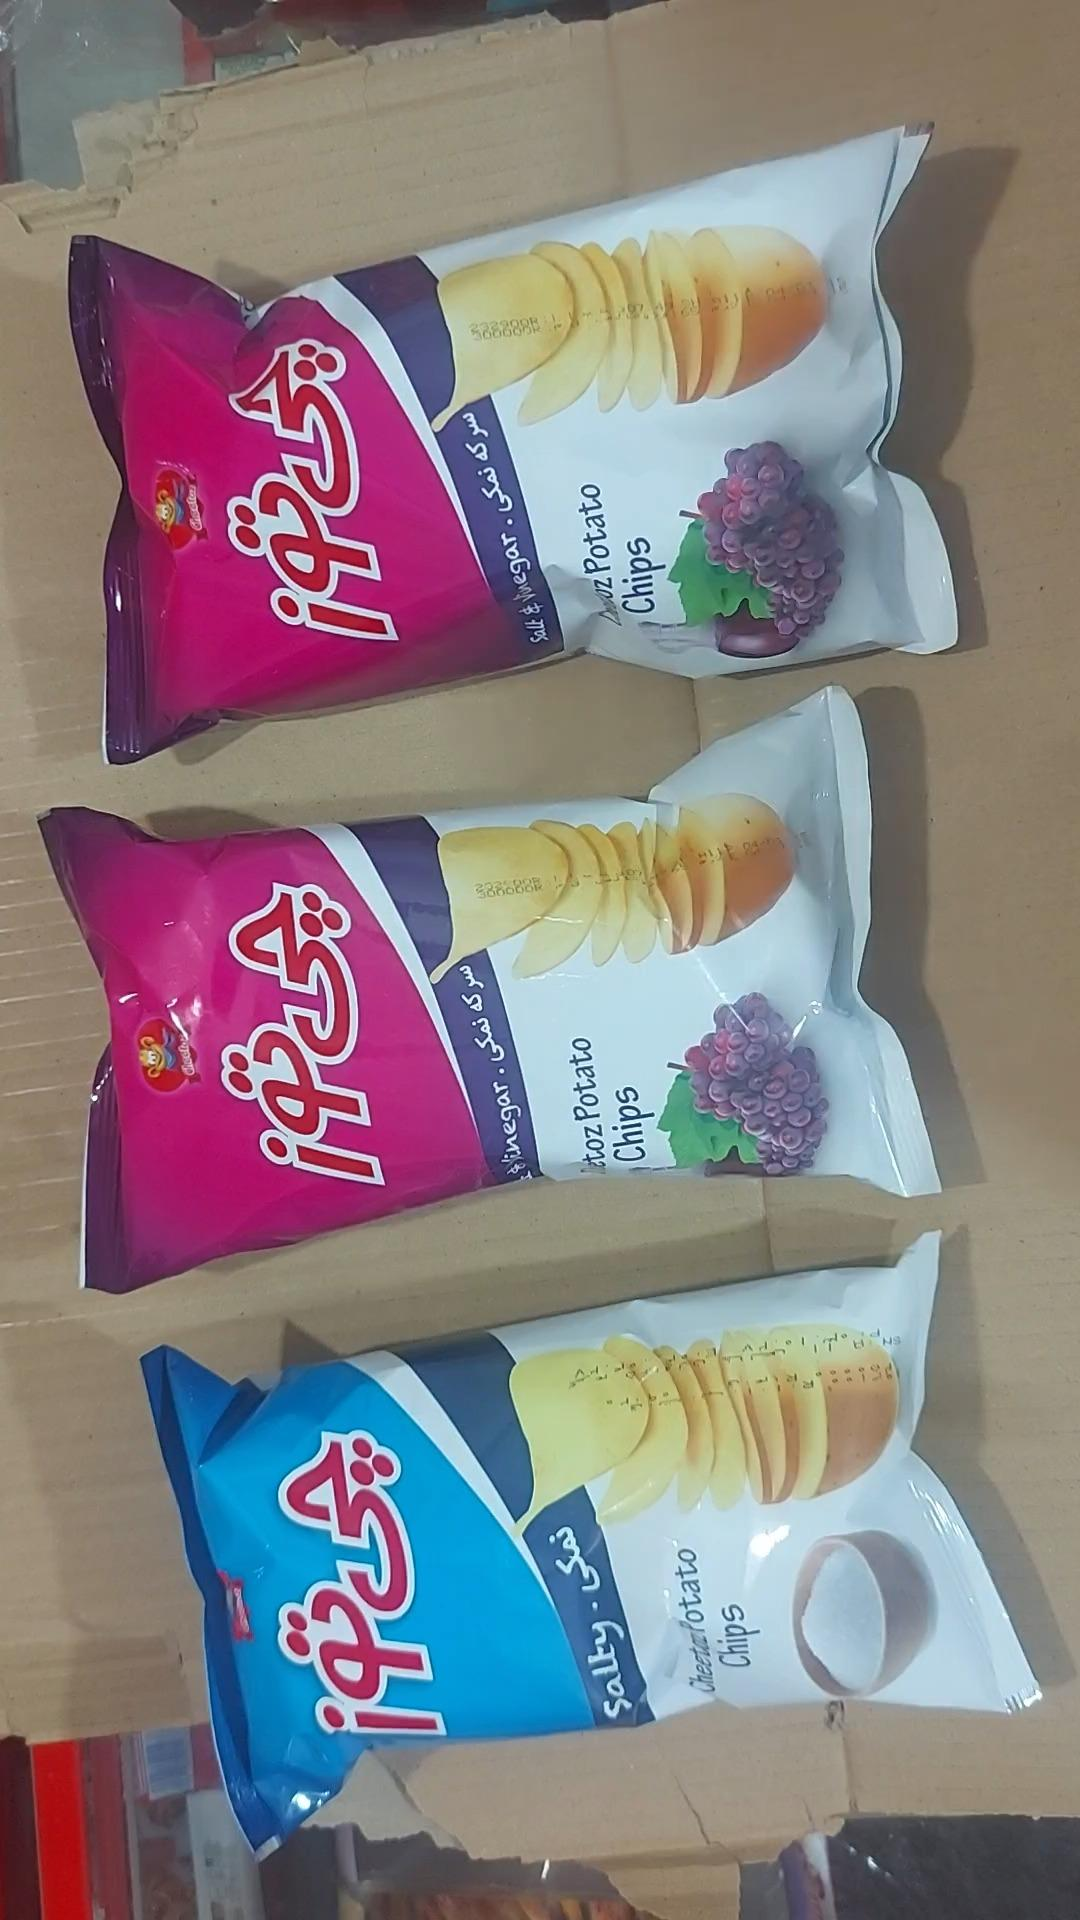Cheetoz salty chips: (138, 1233, 1044, 1861)
Cheetoz vinegar chips: (66, 124, 960, 769), (36, 686, 943, 1298)
